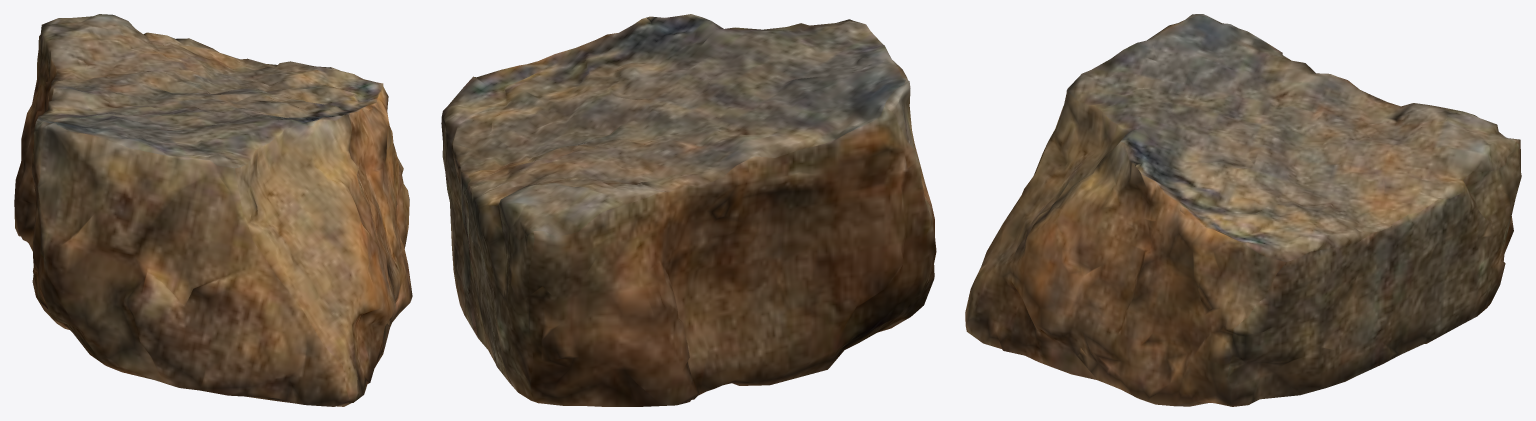
File: rock_b.glb
3 views of the same model, side by side, from view 1: azimuth 30°, elevation 25°; view 2: azimuth 150°, elevation 25°; view 3: azimuth 270°, elevation 25° (orthographic). The views are drawn at different scales.
Visible parts, largest first — view 1: boulder_03_LOD0; view 2: boulder_03_LOD0; view 3: boulder_03_LOD0.
Boxes of the visible parts, <box> form: boulder_03_LOD0: <box>14,14,412,406</box>; boulder_03_LOD0: <box>441,14,936,406</box>; boulder_03_LOD0: <box>965,14,1521,406</box>.
Bounding box in the file's own units: 2.4 × 1.47 × 3.06.
1 material, 1 textured.
